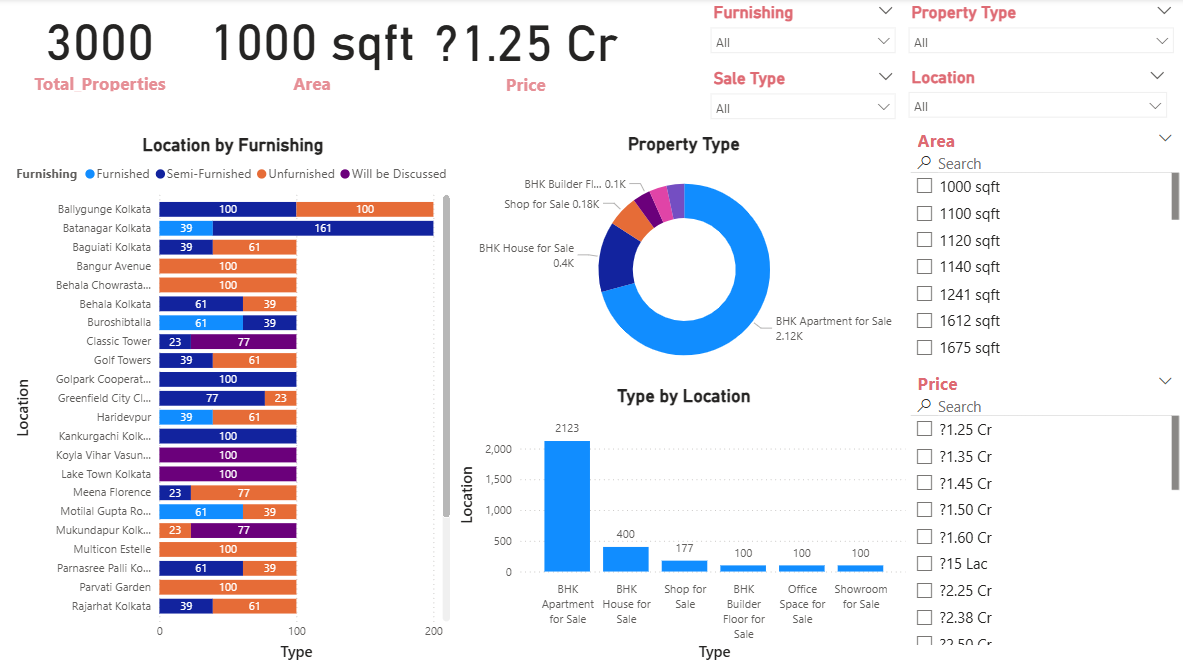

The page's visual inventory and layout, read from the dashboard file:
{"tool":"powerbi","page":{"name":"Page 1","canvas":[1280,720],"ordinal":0},"visuals":[{"type":"donutChart","title":"Property Type","fields":{"Category":["Real Estare Sales-Updated.Company Name"],"Y":["CountNonNull(Real Estare Sales-Updated.Company Name)"]},"box":[493.2,145.5,493.2,272.1],"z":0},{"type":"card","fields":{"Values":["Real Estare Sales-Updated.Total_Properties"]},"box":[0,0,219.2,105.8],"z":1},{"type":"barChart","title":"Location by Furnishing","fields":{"Category":["Real Estare Sales-Updated.Location"],"Series":["Real Estare Sales-Updated.Furnishing"],"Y":["CountNonNull(Real Estare Sales-Updated.Furnishing)"]},"box":[15.1,147.4,478.1,572.6],"z":2},{"type":"columnChart","title":"Type by Location","fields":{"Category":["Real Estare Sales-Updated.Company Name"],"Y":["CountNonNull(Real Estare Sales-Updated.Location)"]},"box":[493.2,417.6,493.2,302.4],"z":3},{"type":"card","fields":{"Values":["Min(Real Estare Sales-Updated.Price)"]},"box":[459.2,3.8,219.2,102],"z":4},{"type":"card","fields":{"Values":["Min(Real Estare Sales-Updated.Area)"]},"box":[219.2,0,240,105.8],"z":5},{"type":"slicer","fields":{"Values":["Real Estare Sales-Updated.Company Name"]},"box":[973.2,0,306.1,69.9],"z":6},{"type":"slicer","fields":{"Values":["Real Estare Sales-Updated.Location"]},"box":[973.2,69.9,298.6,69.9],"z":7},{"type":"slicer","fields":{"Values":["Real Estare Sales-Updated.Furnishing"]},"box":[759.7,0,219.2,69.9],"z":8},{"type":"slicer","fields":{"Values":["Real Estare Sales-Updated.Price"]},"box":[978.9,398.7,300.5,304.3],"z":10},{"type":"slicer","fields":{"Values":["Real Estare Sales-Updated.Area"]},"box":[978.9,136.1,300.5,262.7],"z":11},{"type":"slicer","fields":{"Values":["Real Estare Sales-Updated.Transaction"]},"box":[759.7,71.8,219.2,69.9],"z":12}]}

Visuals, with their boxes in screenshot pixels (x1, y1, x2, y2), scaled from the page's 1280x720 canvas onto the 1183x663 screenshot:
"Property Type" donutChart: bbox=[456, 134, 912, 385]
card - Real Estare Sales-Updated.Total_Properties: bbox=[0, 0, 203, 97]
"Location by Furnishing" barChart: bbox=[14, 136, 456, 662]
"Type by Location" columnChart: bbox=[456, 385, 912, 662]
card - Min(Real Estare Sales-Updated.Price): bbox=[424, 3, 627, 97]
card - Min(Real Estare Sales-Updated.Area): bbox=[203, 0, 424, 97]
slicer - Real Estare Sales-Updated.Company Name: bbox=[899, 0, 1182, 64]
slicer - Real Estare Sales-Updated.Location: bbox=[899, 64, 1175, 129]
slicer - Real Estare Sales-Updated.Furnishing: bbox=[702, 0, 905, 64]
slicer - Real Estare Sales-Updated.Price: bbox=[905, 367, 1182, 647]
slicer - Real Estare Sales-Updated.Area: bbox=[905, 125, 1182, 367]
slicer - Real Estare Sales-Updated.Transaction: bbox=[702, 66, 905, 130]
